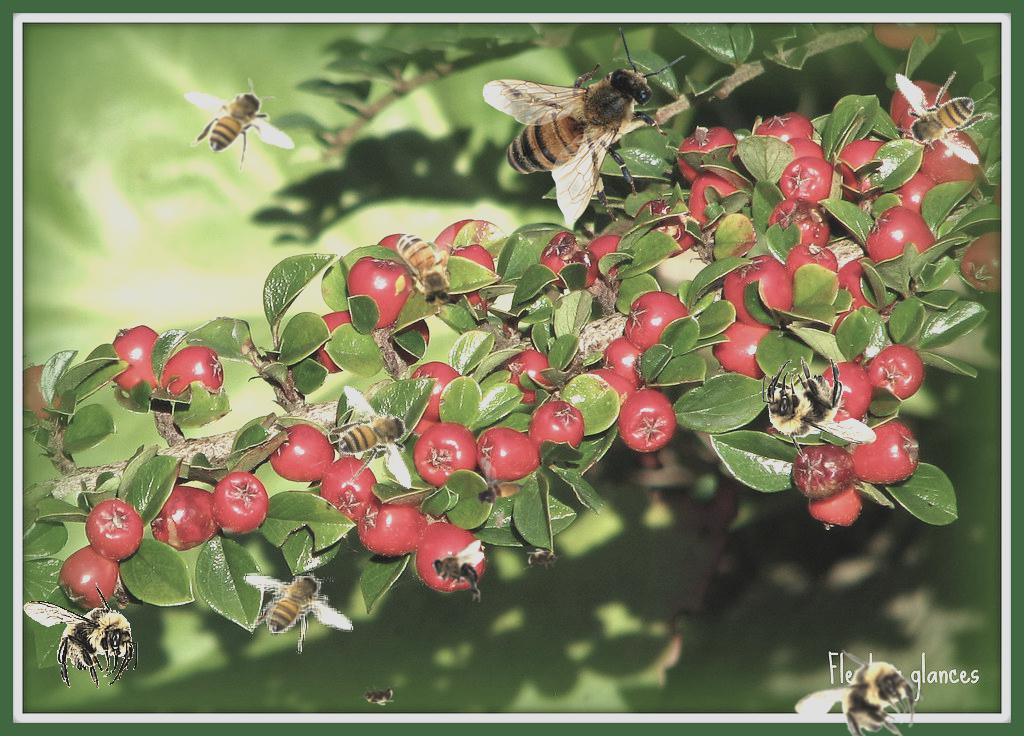Bee: (482, 26, 686, 225), (303, 371, 448, 511), (869, 50, 1008, 180), (780, 625, 937, 736), (23, 582, 138, 689), (762, 356, 877, 463), (243, 560, 354, 654), (184, 78, 295, 172), (391, 221, 459, 314), (467, 455, 529, 534), (431, 540, 484, 602), (523, 548, 563, 570), (358, 684, 398, 706)
